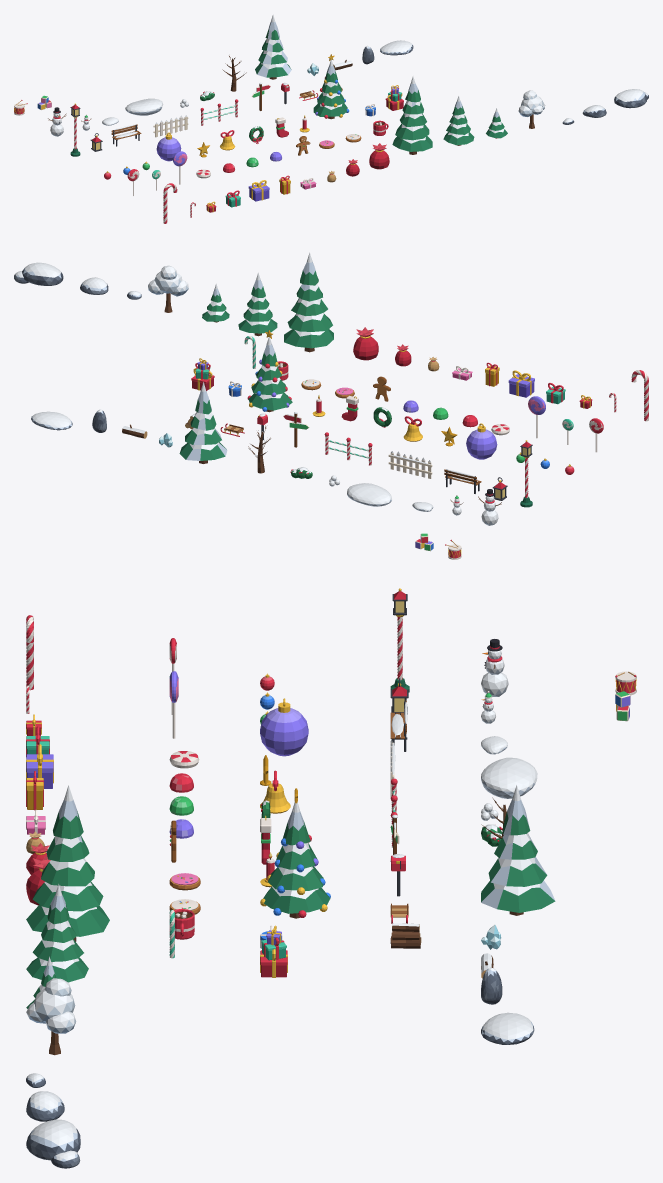
File: Sleighbound_WinterProps.glb
The picture shows the model from 3 angles, top to bottom: view 1: azimuth 30°, elevation 25°; view 2: azimuth 150°, elevation 25°; view 3: azimuth 270°, elevation 25°; orthographic projection. The views are drawn at different scales.
Parts seen in each view (by area): view 1: Pine_Tall, Pine_Heavy, ChristmasTree_Decorated, Pine_Medium, Tree_Frosted, Rock_Cluster, SnowPile_Large, Ornament_Giant, Sack_Large, Fence_Picket, Rock_Flat, Present_Large (+3 smaller); view 2: Pine_Tall, Pine_Heavy, ChristmasTree_Decorated, Pine_Medium, Tree_Frosted, Rock_Cluster, SnowPile_Large, Ornament_Giant, Fence_Picket, Sack_Large, Rock_Flat, Present_Large (+3 smaller); view 3: Pine_Tall, Pine_Heavy, ChristmasTree_Decorated, Pine_Medium, Tree_Frosted, Rock_Cluster, Ornament_Giant, SnowPile_Large, Rock_Flat, Present_Stack, Snowman, Rock_Medium (+2 smaller).
Part boxes in pixels (x1,y1,x2,y2): Pine_Tall: (392,76,432,154); Pine_Heavy: (255,14,291,79); ChristmasTree_Decorated: (313,54,349,119); Pine_Medium: (443,96,474,145); Tree_Frosted: (518,90,545,128); Rock_Cluster: (614,89,648,108); SnowPile_Large: (125,98,163,115); Ornament_Giant: (156,132,181,161); Sack_Large: (369,143,389,169); Fence_Picket: (153,115,188,137); Rock_Flat: (380,40,413,55); Present_Large: (248,180,269,201); Pine_Tall: (284,252,333,352); Pine_Heavy: (179,382,227,463); ChristmasTree_Decorated: (247,330,292,412); Pine_Medium: (238,273,277,336); Tree_Frosted: (148,265,188,312); Rock_Cluster: (14,262,63,285); SnowPile_Large: (347,483,391,506); Ornament_Giant: (466,423,497,459); Fence_Picket: (388,451,432,478); Sack_Large: (353,327,378,360); Rock_Flat: (31,411,72,430); Present_Large: (508,370,534,397); Pine_Tall: (26,785,109,941); Pine_Heavy: (481,785,555,915); ChristmasTree_Decorated: (260,788,330,918); Pine_Medium: (26,884,88,982); Tree_Frosted: (26,978,76,1055); Rock_Cluster: (26,1119,80,1168); Ornament_Giant: (260,698,308,756); SnowPile_Large: (481,757,537,798); Rock_Flat: (481,1012,534,1044); Present_Stack: (260,925,287,977); Snowman: (481,639,508,696); Rock_Medium: (26,1091,64,1121).
Size of the model in its own units: 115 by 17.83 by 61.52.
